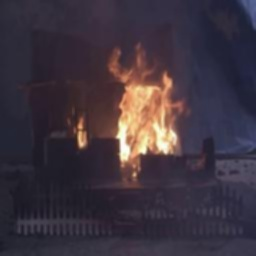fire: (108, 42, 187, 174)
